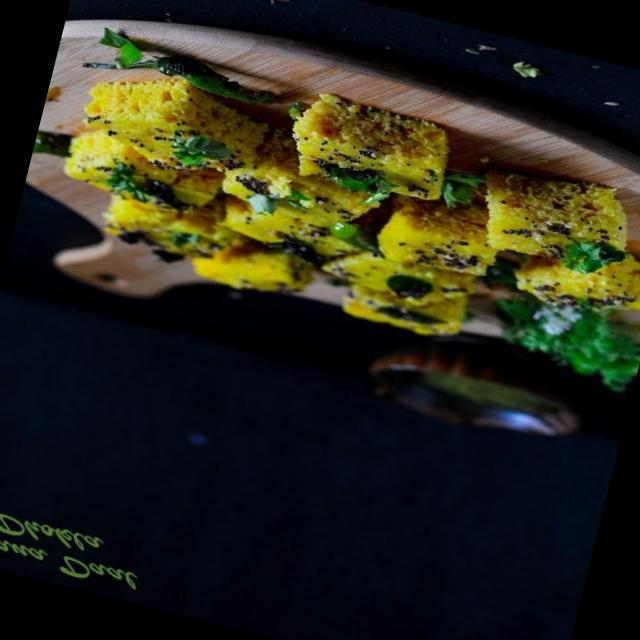dhokla: (44, 43, 640, 381)
